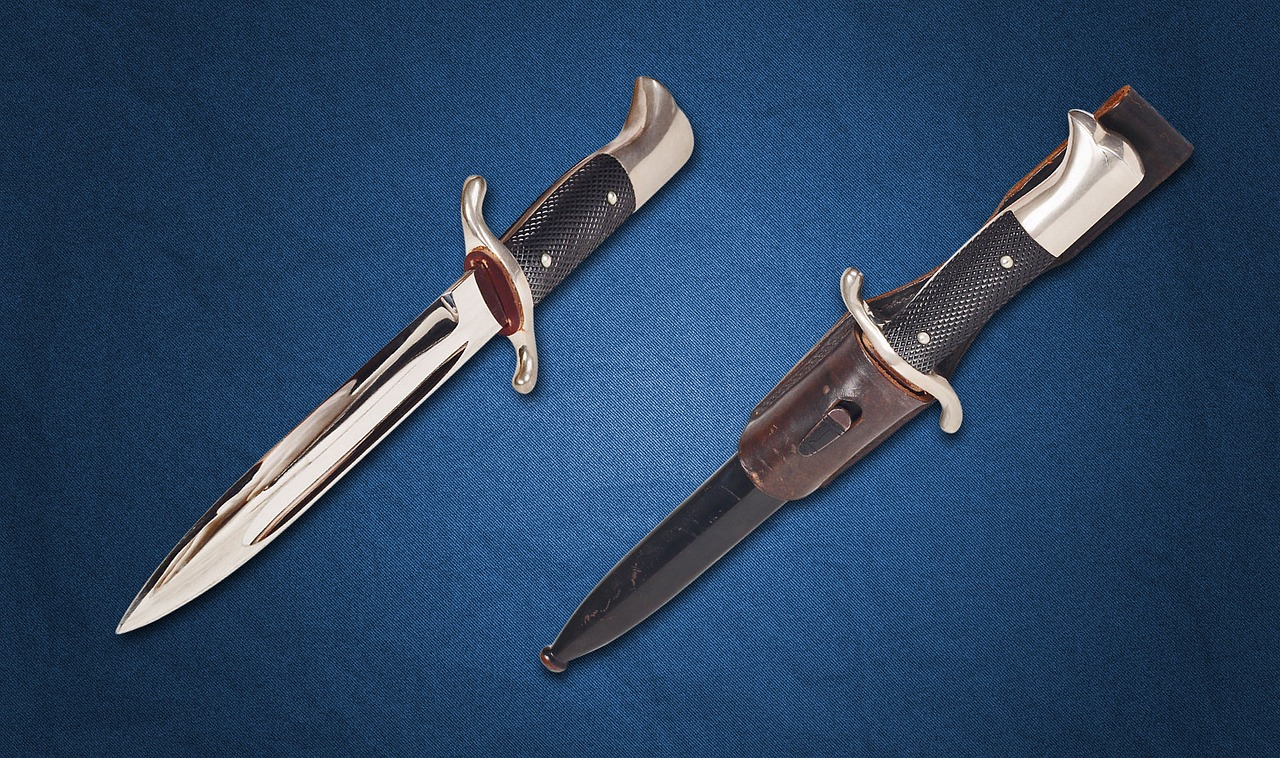knife: (536, 83, 1203, 683), (109, 73, 700, 642)
